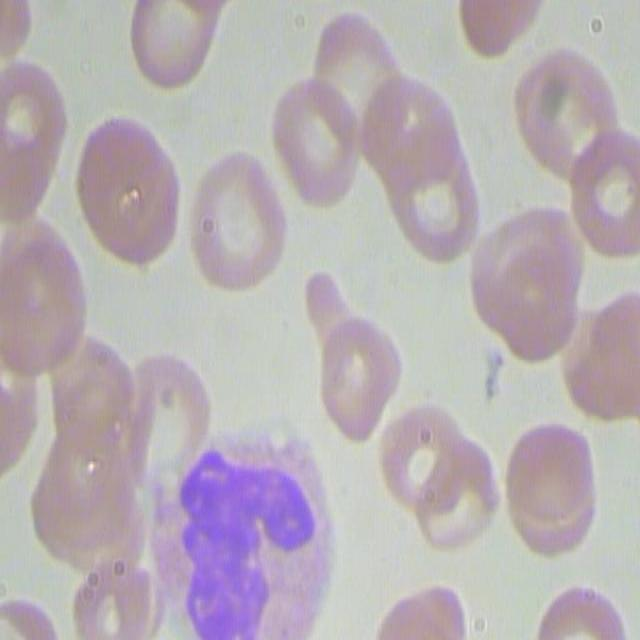RBC: (356, 74, 483, 276), (379, 392, 496, 554), (463, 208, 579, 364), (79, 114, 186, 274), (184, 147, 288, 295), (505, 421, 604, 559), (0, 216, 86, 373), (515, 48, 618, 179), (268, 75, 364, 214), (120, 346, 212, 486), (50, 328, 145, 462), (316, 312, 401, 439), (562, 286, 640, 422), (0, 59, 62, 220), (565, 130, 640, 262), (310, 7, 396, 122), (125, 0, 225, 85), (70, 557, 156, 638), (530, 577, 630, 640), (373, 580, 474, 640), (450, 0, 549, 55)
WBC: (131, 419, 339, 640)
